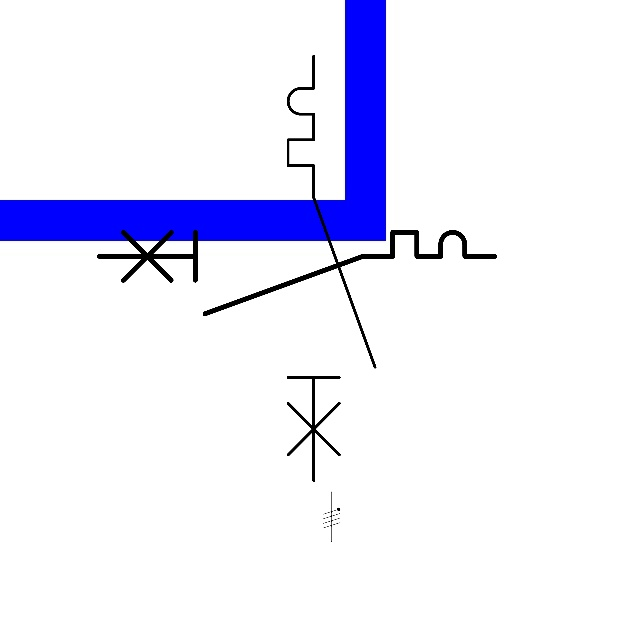interruptor_termomagnetico: (277, 45, 386, 492), (89, 222, 505, 324)
